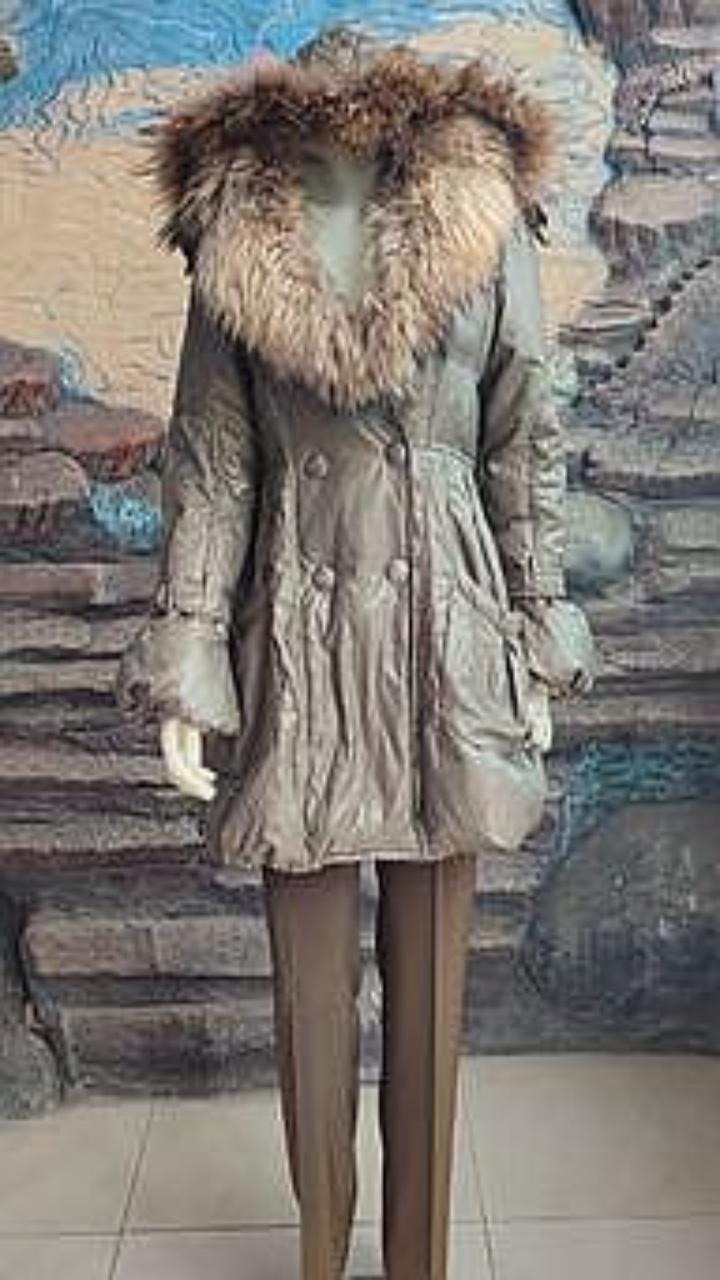Coat: (118, 49, 591, 871)
